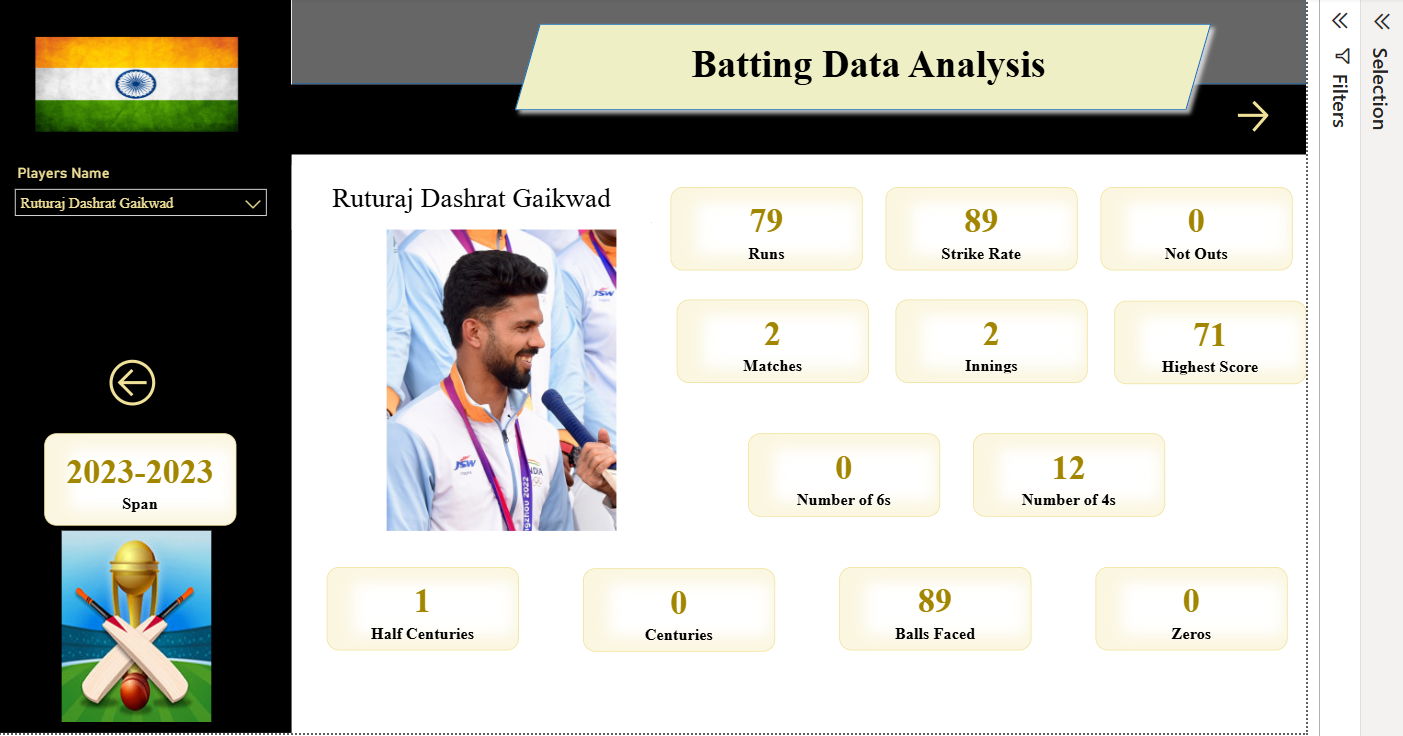

Layout of this report page (visuals, bound fields, positions):
{"tool":"powerbi","page":{"name":"Batting ","canvas":[1280,720],"ordinal":1},"visuals":[{"type":"textbox","box":[0,145.5,287.4,574.7],"z":0},{"type":"tableEx","fields":{"Values":["battingimageurl.imageurlbatting"]},"box":[331.4,187.1,324.1,344.8],"z":1000},{"type":"card","fields":{"Values":["Min(Nametable_batting.Players Name)"]},"box":[287.4,165.1,352.2,62.4],"z":2000},{"type":"card","fields":{"Values":["Min(Cricket Data batting.Span)"]},"box":[45.2,426.8,188.3,90.5],"z":3000},{"type":"shape","box":[0,0,1280.3,85.6],"z":4000},{"type":"shape","box":[0,0,287.4,94.2],"z":5000},{"type":"shape","box":[0,85.6,1280.3,68.5],"z":6000},{"type":"shape","box":[496.5,17.1,699.5,102.7],"z":7000},{"type":"textbox","box":[576,39.1,551.5,57.5],"z":8000},{"type":"image","box":[31.8,34.2,207.9,102.7],"z":9000},{"type":"textbox","box":[697,509,188,211],"z":10000},{"type":"actionButton","box":[102.7,348.5,61.1,57.5],"z":11000},{"type":"actionButton","box":[1206.9,96.6,59.9,40.4],"z":12000},{"type":"card","fields":{"Values":["Sum(Cricket Data batting.NO)"]},"box":[1078.5,185.9,188.3,81.9],"z":13000},{"type":"card","fields":{"Values":["Sum(Cricket Data batting.Inns)"]},"box":[878,295.9,188.3,81.9],"z":14000},{"type":"card","fields":{"Values":["Min(Cricket Data batting.Runs)"]},"box":[655.4,187.1,188.3,81.9],"z":15000},{"type":"card","fields":{"Values":["Sum(Cricket Data batting.Mat)"]},"box":[664,295.9,188.3,81.9],"z":16000},{"type":"card","fields":{"Values":["Sum(Cricket Data batting.SR)"]},"box":[868.2,185.9,188.3,81.9],"z":17000},{"type":"image","box":[57.5,517.3,156.5,196.9],"z":18000},{"type":"card","fields":{"Values":["Min(Cricket Data batting.HS)"]},"box":[1091.7,297.1,188.3,81.9],"z":19000},{"type":"card","fields":{"Values":["Sum(Cricket Data batting.BF)"]},"box":[823,557.6,188.3,81.9],"z":20000},{"type":"card","fields":{"Values":["Sum(Cricket Data batting.4s)"]},"box":[953.8,426.8,188.3,81.9],"z":21000},{"type":"card","fields":{"Values":["Sum(Cricket Data batting.6s)"]},"box":[733.7,426.8,188.3,81.9],"z":22000},{"type":"card","fields":{"Values":["Sum(Cricket Data batting.50)"]},"box":[321.6,557.6,188.3,81.9],"z":23000},{"type":"card","fields":{"Values":["Sum(Cricket Data batting.100)"]},"box":[572.3,558.8,188.3,81.9],"z":24000},{"type":"card","fields":{"Values":["Sum(Cricket Data batting.0)"]},"box":[1073.6,557.6,188.3,81.9],"z":25000},{"type":"slicer","fields":{"Values":["Nametable_batting.Players Name"]},"box":[6.1,159,266.6,77],"z":26000}]}

Visuals, with their boxes on the page's 1280x720 design canvas (x1, y1, x2, y2). These are canvas units, not pixel positions in the 1403x736 screenshot, which may show the page scaled, cropped or inside an application window:
textbox: <bbox>0, 146, 287, 720</bbox>
tableEx - battingimageurl.imageurlbatting: <bbox>331, 187, 656, 532</bbox>
card - Min(Nametable_batting.Players Name): <bbox>287, 165, 640, 228</bbox>
card - Min(Cricket Data batting.Span): <bbox>45, 427, 234, 517</bbox>
shape: <bbox>0, 0, 1280, 86</bbox>
shape: <bbox>0, 0, 287, 94</bbox>
shape: <bbox>0, 86, 1280, 154</bbox>
shape: <bbox>496, 17, 1196, 120</bbox>
textbox: <bbox>576, 39, 1128, 97</bbox>
image: <bbox>32, 34, 240, 137</bbox>
textbox: <bbox>697, 509, 885, 720</bbox>
actionButton: <bbox>103, 348, 164, 406</bbox>
actionButton: <bbox>1207, 97, 1267, 137</bbox>
card - Sum(Cricket Data batting.NO): <bbox>1078, 186, 1267, 268</bbox>
card - Sum(Cricket Data batting.Inns): <bbox>878, 296, 1066, 378</bbox>
card - Min(Cricket Data batting.Runs): <bbox>655, 187, 844, 269</bbox>
card - Sum(Cricket Data batting.Mat): <bbox>664, 296, 852, 378</bbox>
card - Sum(Cricket Data batting.SR): <bbox>868, 186, 1056, 268</bbox>
image: <bbox>58, 517, 214, 714</bbox>
card - Min(Cricket Data batting.HS): <bbox>1092, 297, 1280, 379</bbox>
card - Sum(Cricket Data batting.BF): <bbox>823, 558, 1011, 640</bbox>
card - Sum(Cricket Data batting.4s): <bbox>954, 427, 1142, 509</bbox>
card - Sum(Cricket Data batting.6s): <bbox>734, 427, 922, 509</bbox>
card - Sum(Cricket Data batting.50): <bbox>322, 558, 510, 640</bbox>
card - Sum(Cricket Data batting.100): <bbox>572, 559, 761, 641</bbox>
card - Sum(Cricket Data batting.0): <bbox>1074, 558, 1262, 640</bbox>
slicer - Nametable_batting.Players Name: <bbox>6, 159, 273, 236</bbox>
